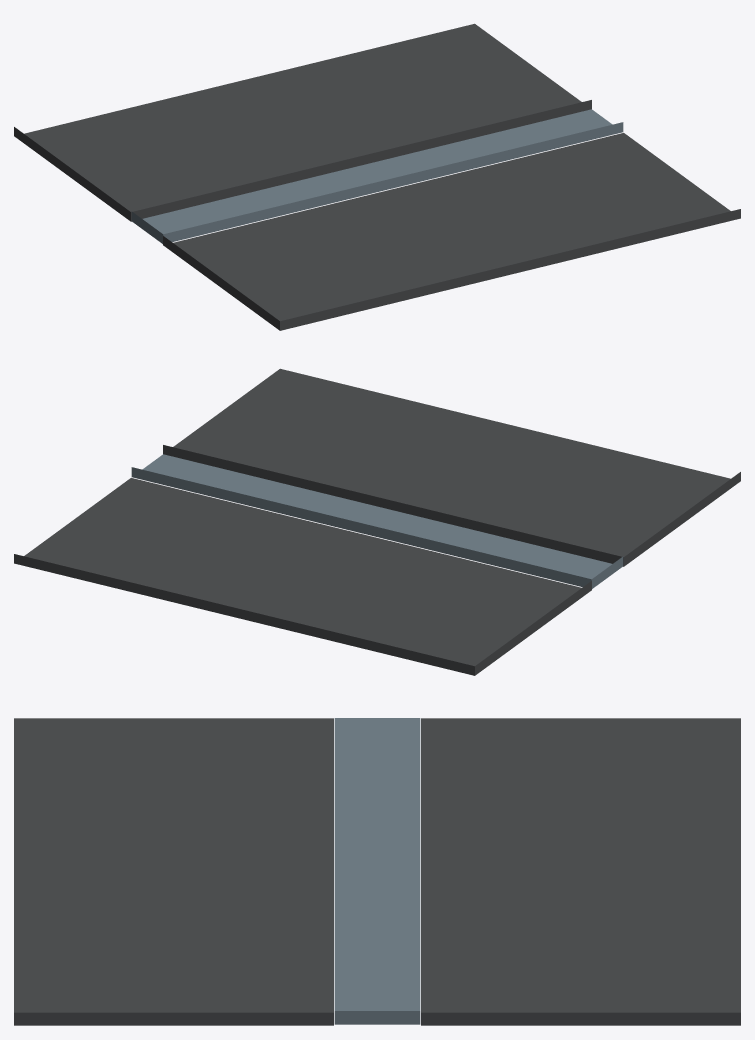
Rendered from tt_gym_floor_tile_lane.glb.
3 renders of one model, top to bottom at view 1: azimuth 30°, elevation 25°; view 2: azimuth 150°, elevation 25°; view 3: azimuth 270°, elevation 25°, orthographic. The views are drawn at different scales.
Parts seen in each view (by area): view 1: Rubber_Tile, Lane_Inlay; view 2: Rubber_Tile, Lane_Inlay; view 3: Rubber_Tile, Lane_Inlay.
Boxes of the visible parts, box(x1,y1,x2,y2) form: Rubber_Tile: box(14, 23, 740, 330); Lane_Inlay: box(131, 109, 623, 243); Rubber_Tile: box(14, 368, 740, 675); Lane_Inlay: box(131, 454, 623, 588); Rubber_Tile: box(14, 718, 740, 1025); Lane_Inlay: box(334, 718, 420, 1024).
Size of what is drawn, in the model's own units: 1 by 0.022 by 1.
